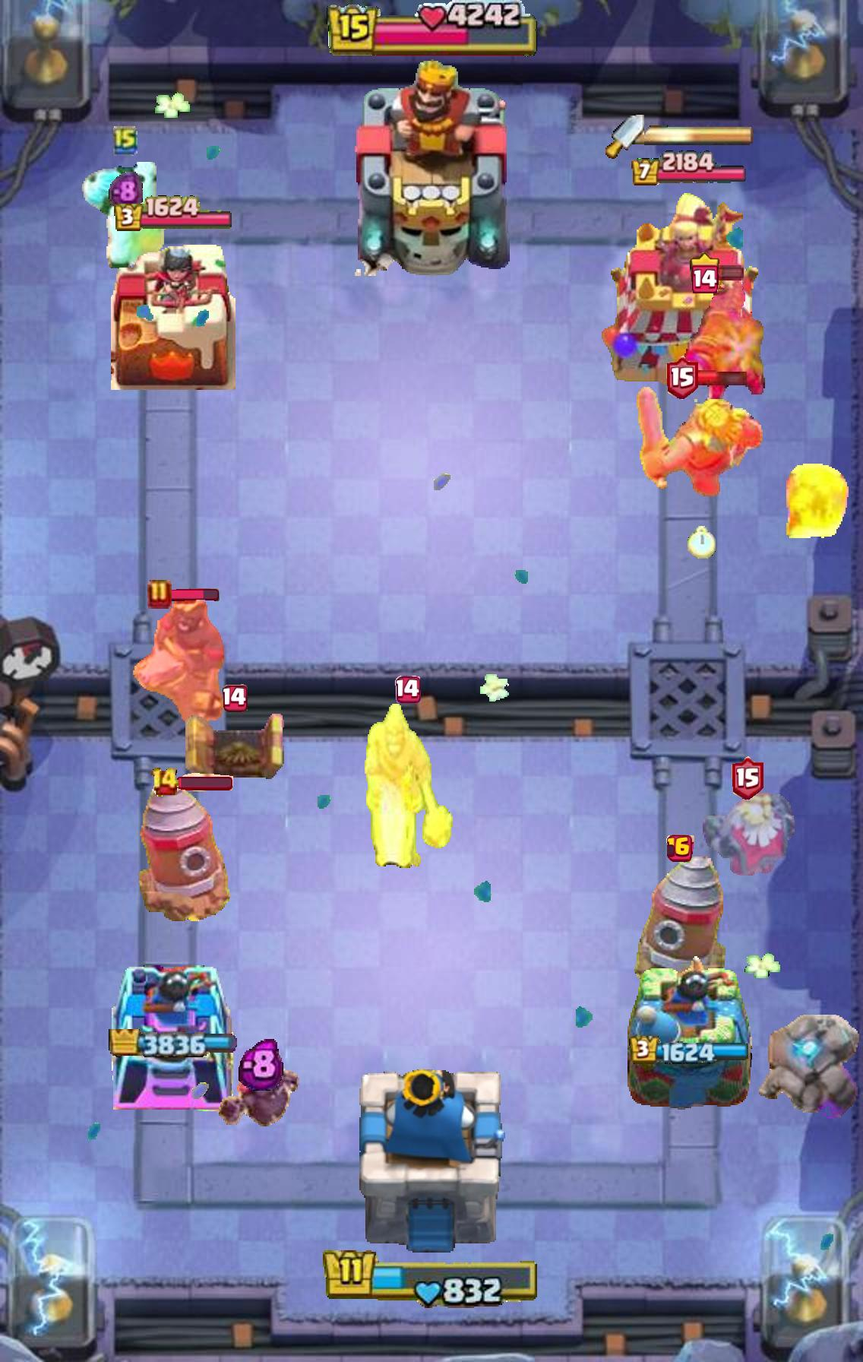bar: (694, 368, 748, 388), (177, 773, 234, 791), (169, 588, 220, 601), (716, 264, 744, 281)
bar-level: (666, 356, 698, 400), (732, 756, 763, 800), (690, 252, 720, 293), (150, 767, 179, 797), (667, 834, 695, 862), (147, 579, 172, 610), (395, 676, 421, 704), (222, 684, 248, 712)
